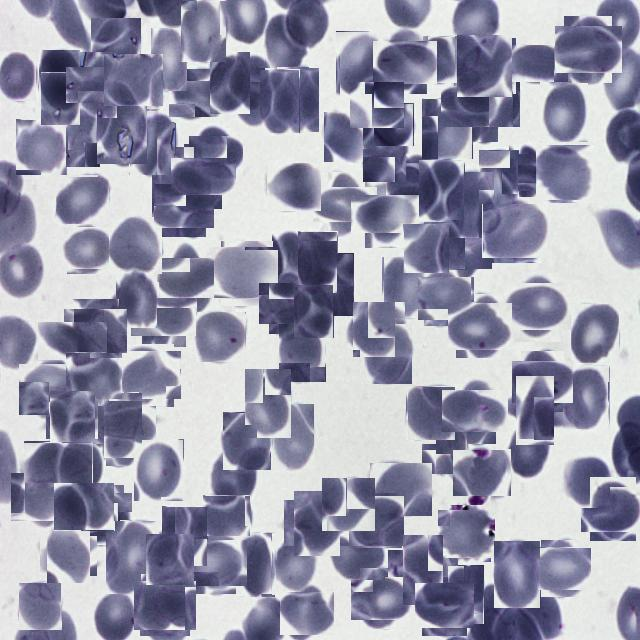red blood cell: (104, 521, 158, 594), (336, 31, 388, 101), (24, 359, 84, 419), (484, 200, 544, 260), (456, 36, 514, 96), (508, 278, 567, 336), (218, 244, 276, 303), (97, 96, 147, 164), (537, 144, 595, 202), (429, 216, 487, 274), (448, 78, 506, 135), (245, 368, 292, 438), (370, 463, 432, 516), (494, 540, 541, 608), (225, 61, 281, 118), (560, 21, 616, 78), (331, 521, 385, 580), (540, 80, 588, 146), (136, 286, 192, 342), (164, 250, 220, 306), (289, 495, 345, 551), (452, 298, 508, 354), (137, 577, 193, 633), (422, 98, 473, 159), (129, 110, 176, 176), (134, 439, 184, 501), (152, 146, 195, 218), (122, 348, 178, 403), (395, 543, 451, 598), (104, 54, 163, 106), (563, 364, 610, 429), (91, 18, 141, 79), (109, 217, 162, 274), (450, 171, 495, 238), (279, 318, 326, 382), (586, 481, 640, 536), (447, 384, 502, 438), (508, 383, 562, 438), (390, 158, 444, 212), (378, 35, 432, 89), (68, 304, 122, 358), (322, 477, 376, 531), (265, 12, 309, 78), (308, 253, 354, 316), (24, 442, 93, 484), (54, 484, 114, 532), (190, 536, 243, 590), (171, 67, 225, 120), (16, 119, 67, 175), (272, 533, 318, 595), (181, 0, 227, 62), (471, 69, 520, 127), (571, 304, 619, 363), (440, 507, 493, 560), (350, 494, 403, 547), (358, 188, 412, 240), (419, 159, 465, 220), (382, 256, 427, 318), (223, 412, 271, 470), (366, 324, 412, 384), (162, 506, 208, 566), (157, 180, 210, 232), (14, 471, 66, 524), (418, 580, 471, 632), (363, 120, 407, 182), (356, 572, 408, 624), (516, 356, 568, 408), (72, 59, 124, 111), (96, 399, 148, 451), (211, 446, 256, 506), (56, 174, 110, 224), (406, 386, 456, 440), (277, 68, 319, 132), (66, 352, 123, 399), (453, 450, 511, 496), (273, 404, 314, 469), (536, 543, 588, 594), (177, 151, 229, 202), (38, 322, 107, 360), (264, 278, 315, 329), (236, 532, 276, 597), (267, 163, 321, 211), (479, 150, 519, 214), (260, 69, 300, 133), (507, 424, 551, 482), (77, 490, 128, 540), (422, 419, 468, 474), (60, 441, 104, 498), (502, 44, 568, 82), (320, 180, 370, 230), (421, 274, 471, 324), (44, 530, 94, 580), (196, 312, 246, 362), (352, 80, 402, 130), (210, 52, 250, 114), (298, 231, 338, 293), (115, 268, 156, 328), (146, 534, 194, 585), (105, 392, 138, 466), (350, 305, 399, 354), (282, 589, 332, 637), (39, 50, 80, 108), (48, 392, 96, 441), (504, 148, 552, 196), (565, 457, 610, 508), (66, 100, 100, 167), (151, 28, 187, 91), (65, 224, 112, 272), (402, 224, 448, 273), (192, 132, 240, 178), (294, 284, 334, 338), (324, 111, 366, 162), (448, 565, 484, 624), (41, 72, 81, 125), (19, 582, 62, 630), (272, 230, 308, 286), (203, 495, 251, 536), (0, 52, 37, 102), (423, 36, 460, 84), (374, 103, 414, 146)
